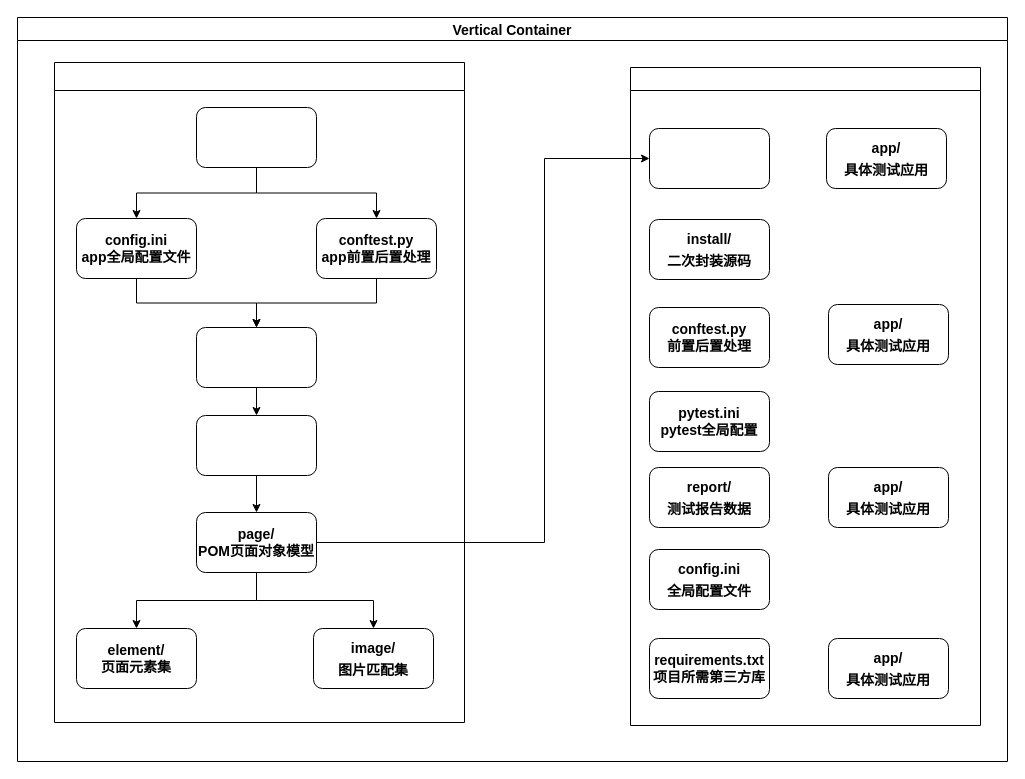
Some shapes in this 1025 by 779 pixel diagram are drawn without their labels. Here are the shapes that lost their labels. From the top down, the box of each, then its label:
(196, 106, 316, 168): app/run.py 程序运行入口
(648, 128, 770, 188): common/ 公共方法封装
(196, 326, 316, 388): case/ 所有测试用例集
(54, 62, 464, 722): APP结构
(630, 66, 980, 726): 框架结构
(196, 414, 316, 476): flow/ 公共业务抽象流程
